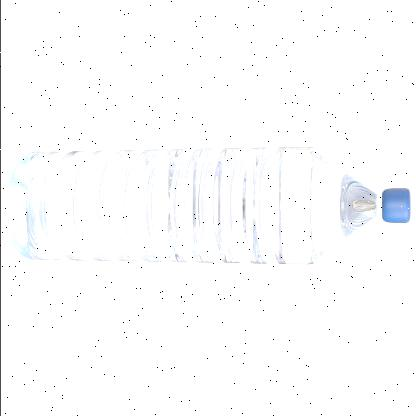Plastic Bottle: (4, 148, 410, 265)
